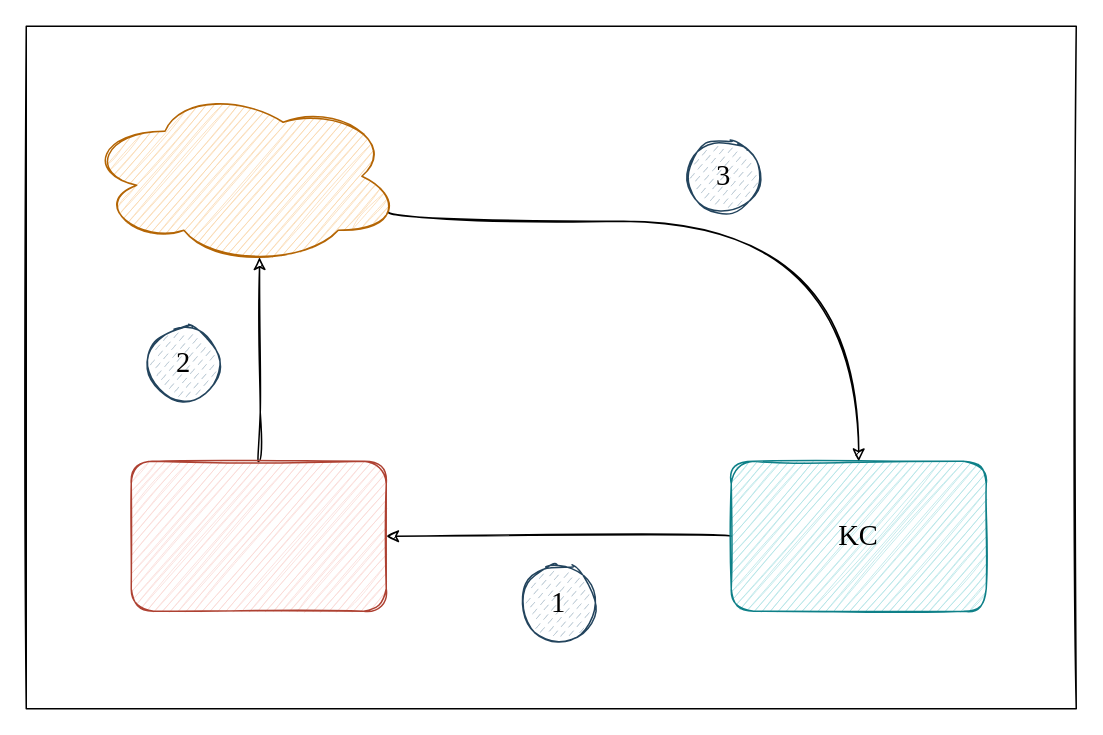
Image size: 1103x735. Some labels were removed from this diagram. Here are the shapes that lost their labels. From the top down, the centre of each, then its label:
At point (243, 175): "Shadow".
At point (258, 535): "Robot1".
